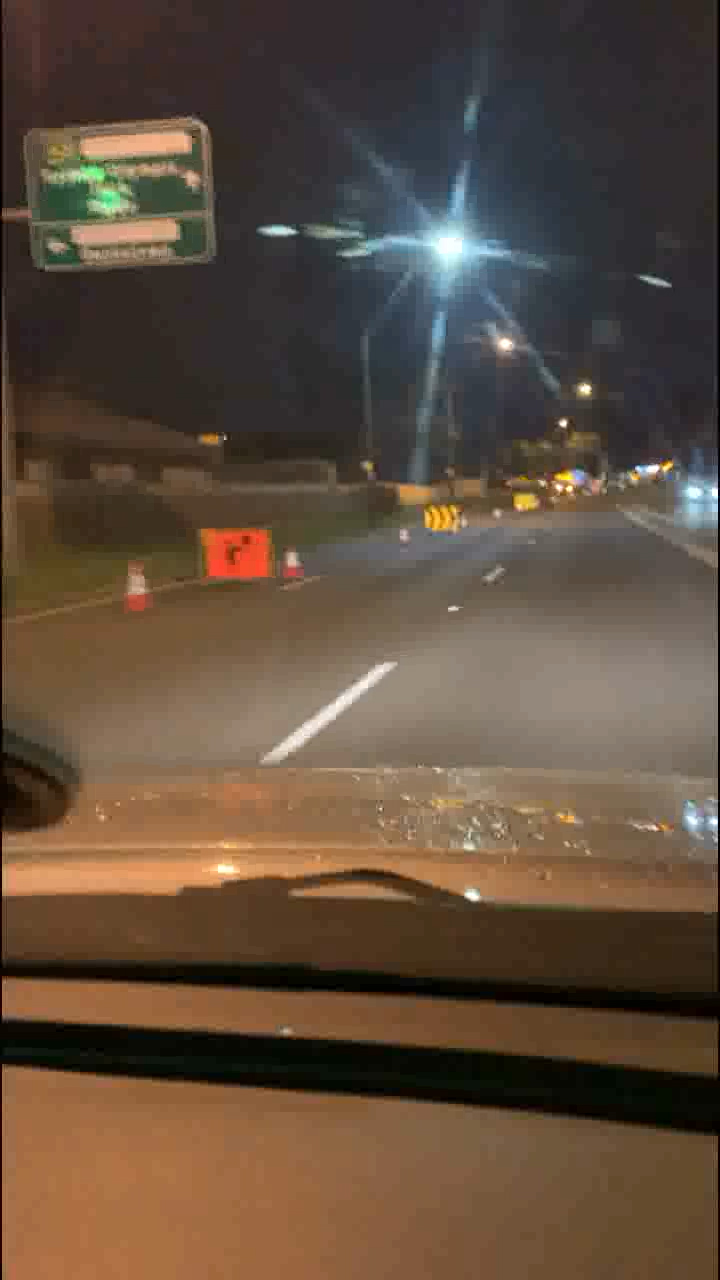road cone: (124, 565, 152, 613), (283, 548, 308, 579)
road works sign board: (200, 529, 277, 580)
